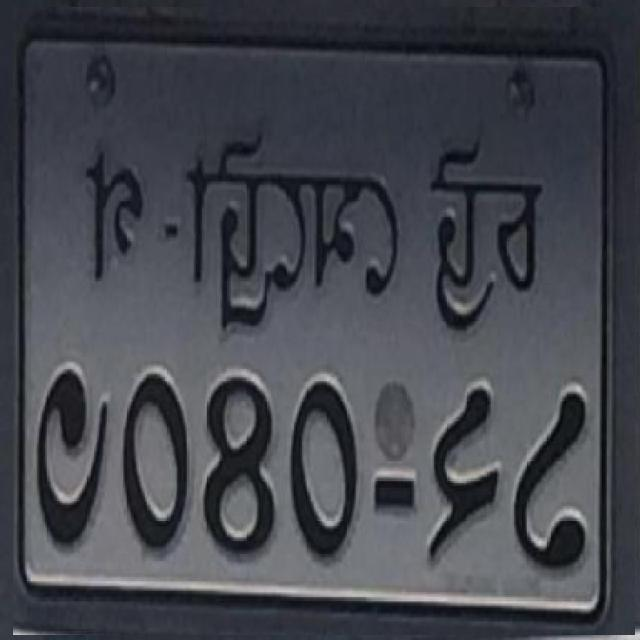numberplate: (13, 7, 635, 635)
